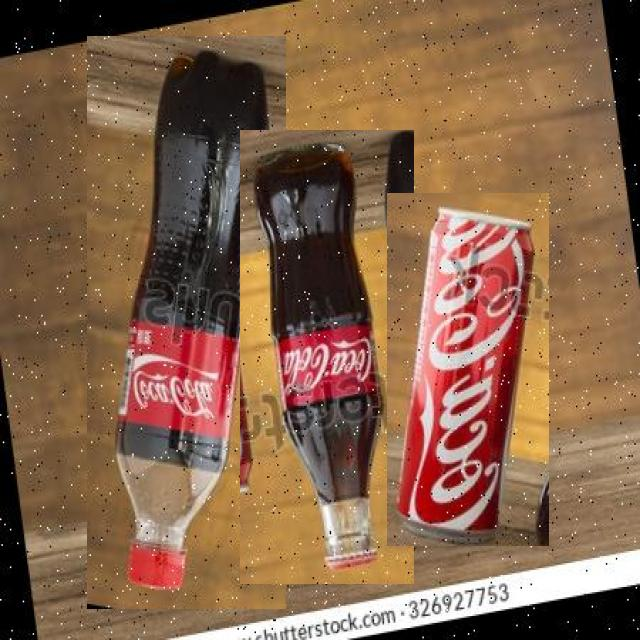coca-cola: (87, 36, 286, 609), (240, 130, 414, 584), (387, 193, 549, 546)
